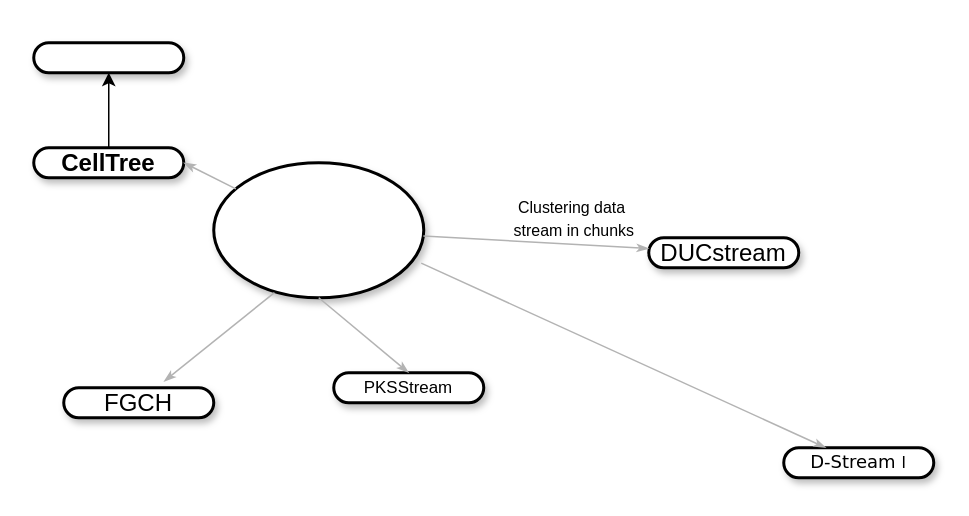
Image size: 969x516. Some labels were removed from this diagram. The centre of each missing label's shape, as x and y in pixels:
"Cell*Tree" belongs at point (110, 59).
"Grid-based clustering" belongs at point (320, 231).
